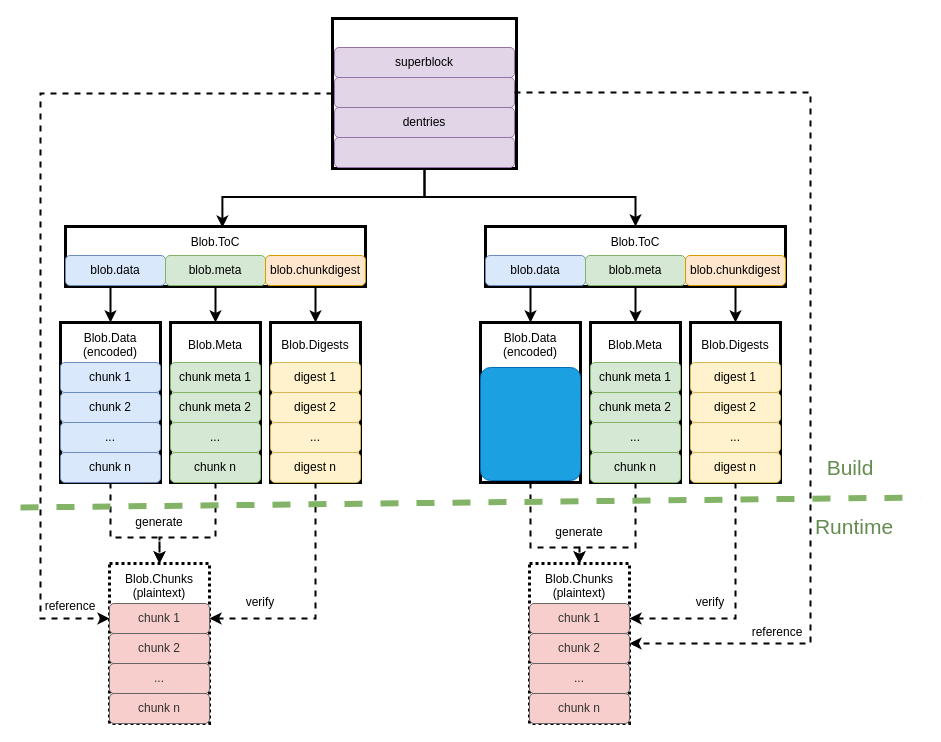
Image size: 941x742. Some labels were removed from this diagram. Here are the shapes that lost their labels. From the top down, the box of each, then its label:
(334, 76, 514, 108): inodes
(330, 16, 518, 170): RAFS V6 Metadata
(334, 136, 514, 168): blob_table
(480, 366, 580, 480): OCIv1 tar.gz
